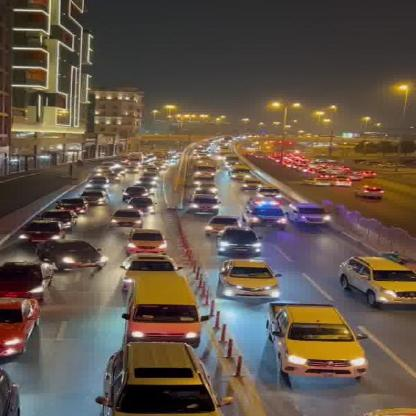priority: (240, 196, 289, 230)
